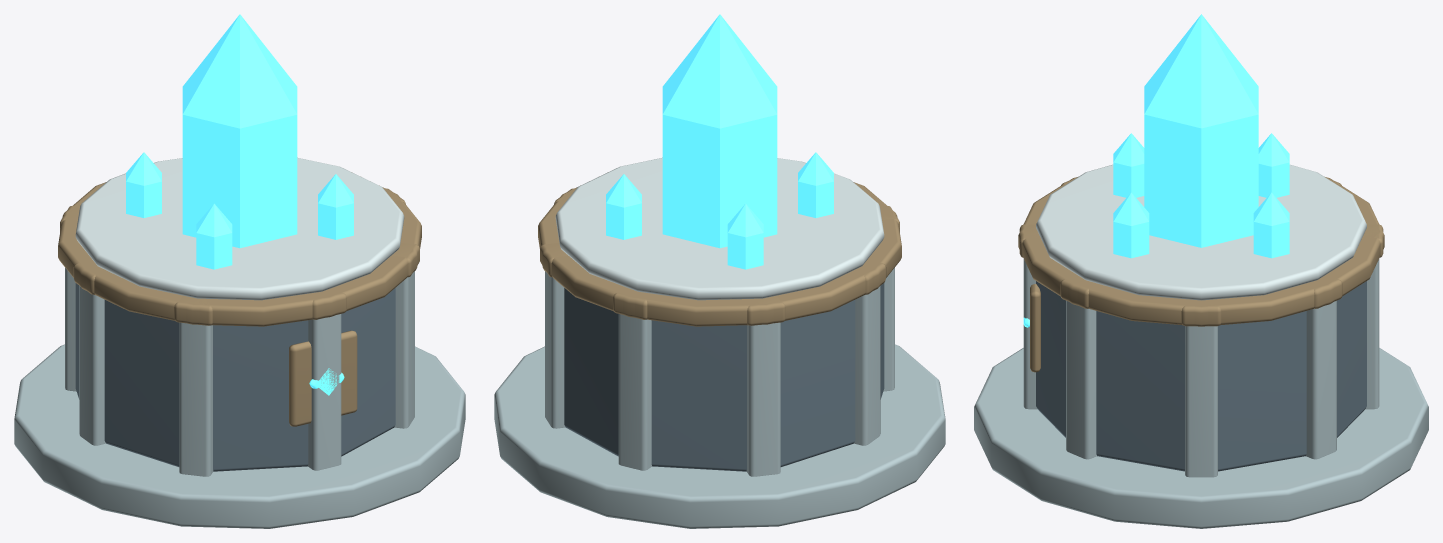
File: frost-beacon.glb
The picture shows the model from 3 angles, left to right: view 1: azimuth 30°, elevation 25°; view 2: azimuth 150°, elevation 25°; view 3: azimuth 270°, elevation 25°; orthographic projection.
Visible parts, largest first — view 1: Foundation, Octagonal keep, Snow cap, Main frost crystal, Upper rim, Stone buttress 05, Stone buttress 06, Stone buttress 04, Front plaque, Stone buttress 07, Satellite crystal 2, Satellite crystal 1 (+3 smaller); view 2: Foundation, Octagonal keep, Snow cap, Main frost crystal, Upper rim, Stone buttress 03, Stone buttress 02, Stone buttress 04, Stone buttress 01, Satellite crystal 1, Satellite crystal 2, Satellite crystal 0 (+2 smaller); view 3: Octagonal keep, Foundation, Snow cap, Main frost crystal, Upper rim, Stone buttress 00, Stone buttress 01, Stone buttress 07, Satellite crystal 0, Satellite crystal 3, Stone buttress 02, Satellite crystal 1 (+4 smaller).
Part boxes in pixels (box(x1,y1,x2,y2)): Foundation: box(14, 344, 465, 528); Octagonal keep: box(75, 283, 395, 471); Snow cap: box(75, 157, 404, 300); Main frost crystal: box(182, 14, 297, 248); Upper rim: box(58, 182, 421, 326); Stone buttress 05: box(179, 322, 213, 476); Stone buttress 06: box(308, 314, 341, 470); Stone buttress 04: box(79, 286, 105, 445); Front plaque: box(289, 330, 357, 426); Stone buttress 07: box(394, 271, 414, 428); Satellite crystal 2: box(196, 203, 232, 269); Satellite crystal 1: box(126, 152, 161, 217); Foundation: box(494, 344, 945, 528); Octagonal keep: box(564, 283, 884, 471); Snow cap: box(555, 157, 884, 300); Main frost crystal: box(662, 14, 777, 248); Upper rim: box(538, 182, 901, 326); Stone buttress 03: box(746, 322, 780, 476); Stone buttress 02: box(618, 314, 651, 470); Stone buttress 04: box(854, 286, 880, 445); Stone buttress 01: box(545, 271, 565, 428); Satellite crystal 1: box(727, 203, 763, 269); Satellite crystal 2: box(798, 152, 833, 217); Satellite crystal 0: box(606, 174, 641, 239); Octagonal keep: box(1036, 281, 1366, 471); Foundation: box(974, 348, 1428, 528); Snow cap: box(1036, 164, 1366, 300); Main frost crystal: box(1144, 14, 1258, 247); Upper rim: box(1018, 176, 1384, 326); Stone buttress 00: box(1185, 326, 1217, 477); Stone buttress 01: box(1306, 300, 1336, 459); Stone buttress 07: box(1066, 300, 1096, 459); Satellite crystal 0: box(1253, 192, 1289, 258); Satellite crystal 3: box(1113, 192, 1149, 258); Stone buttress 02: box(1365, 259, 1379, 409); Satellite crystal 1: box(1258, 133, 1289, 197).
Bounding box in the file's own units: 3.3 × 3.37 × 3.3.
